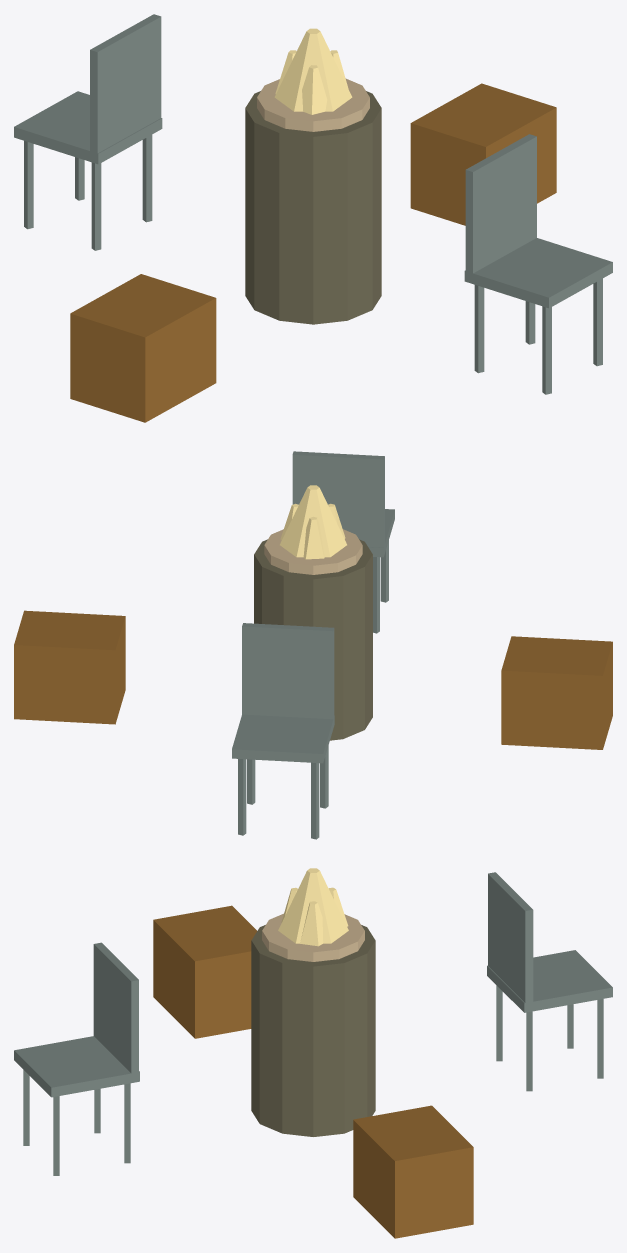
File: SM_BidonFuego_v3_Corro_LOD0.fbx
3 views of the same model, one above another, from view 1: azimuth 30°, elevation 25°; view 2: azimuth 150°, elevation 25°; view 3: azimuth 270°, elevation 25° (orthographic). The views are drawn at different scales.
Parts seen in each view (by area): view 1: SM_vida_fuerte_v3_LOD0, Emision; view 2: SM_vida_fuerte_v3_LOD0, Emision; view 3: SM_vida_fuerte_v3_LOD0, Emision.
Boxes of the visible parts, x1,y1,x2,y2 form: SM_vida_fuerte_v3_LOD0: (14, 14, 612, 422); Emision: (257, 28, 369, 131); SM_vida_fuerte_v3_LOD0: (14, 451, 612, 839); Emision: (264, 485, 362, 574); SM_vida_fuerte_v3_LOD0: (14, 872, 612, 1238); Emision: (262, 868, 364, 961).
Bounding box in the file's own units: 2.83 × 1.24 × 2.8.
